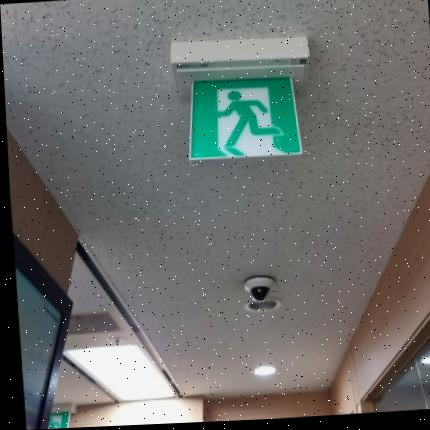emergency_exit: (188, 74, 304, 161)
